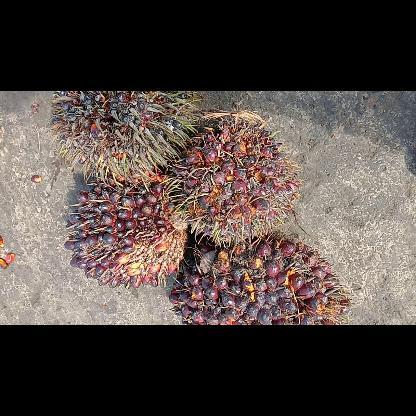Kurang masak: (174, 111, 298, 243), (66, 176, 186, 288)
TBS abnormal: (52, 91, 194, 173)
TBS masak: (170, 236, 350, 324)
